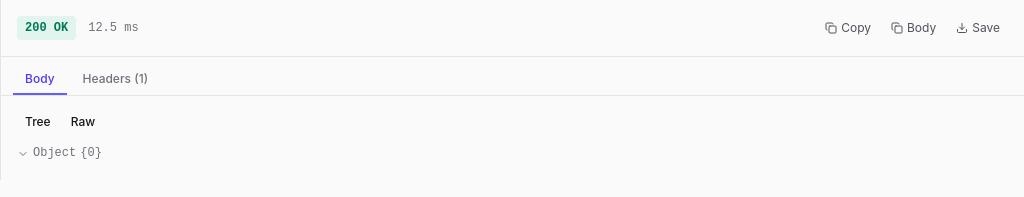
ResponseViewer › lists response headers on the headers tab
What coordinates should you click on to do the following:
click the tab "Headers (1)"
I would click on:
 (115, 80)
Its box is [70,65,160,95].
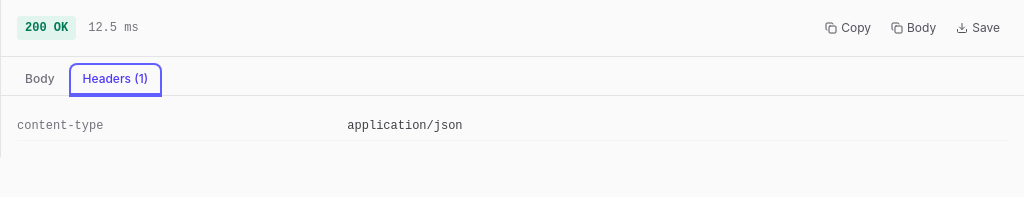
expect the cell "application/json" is shown: met, box [347,112,1008,140]
